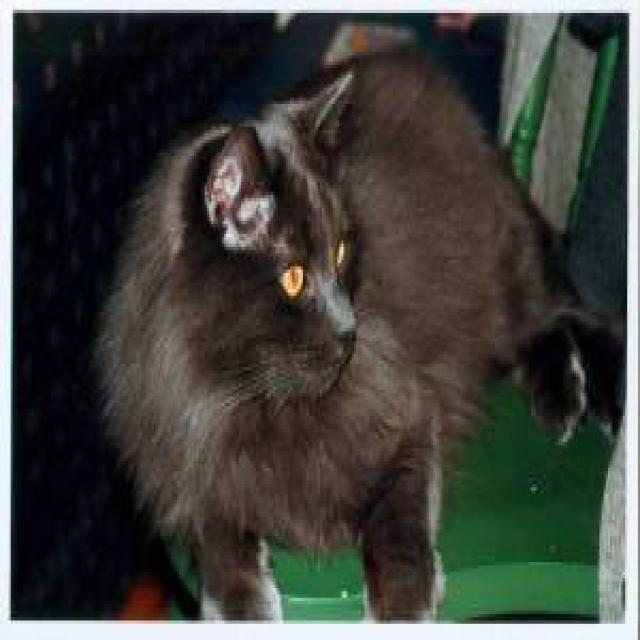Maine_Coon: (178, 61, 371, 409)
